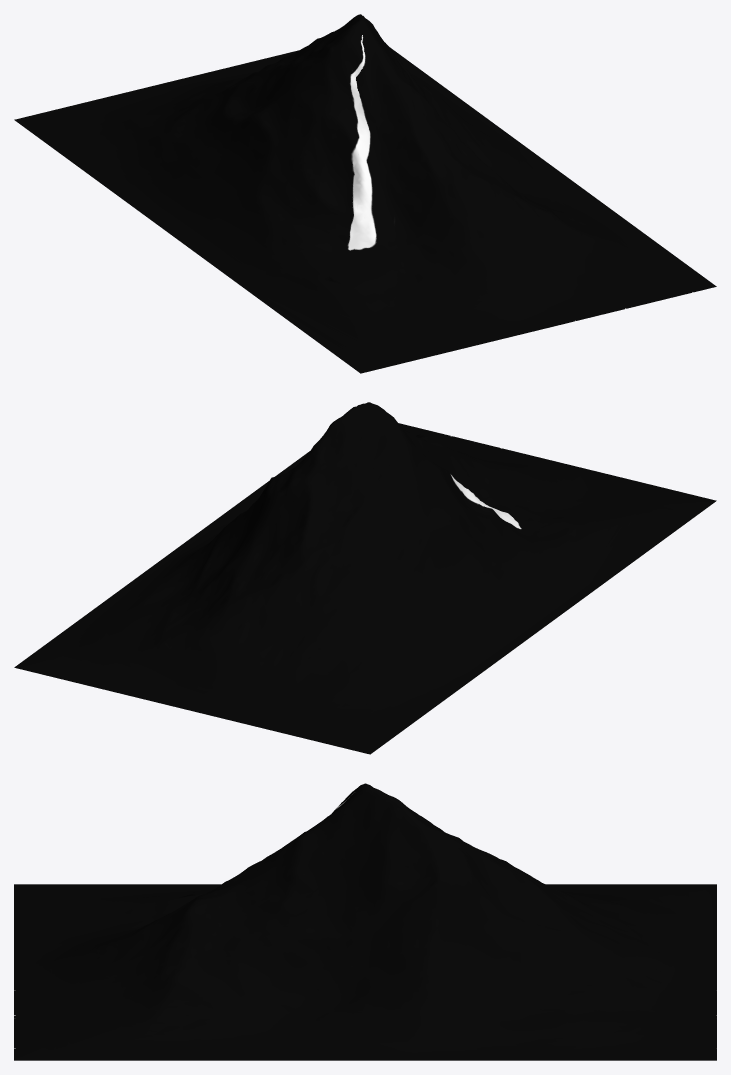
File: optimized_mountain_v2.glb
The picture shows the model from 3 angles, top to bottom: view 1: azimuth 30°, elevation 25°; view 2: azimuth 150°, elevation 25°; view 3: azimuth 270°, elevation 25°; orthographic projection.
Parts seen in each view (by area): view 1: Terrain_1; view 2: Terrain_1; view 3: Terrain_1.
Boxes of the visible parts, x1,y1,x2,y2 form: Terrain_1: (14,14,716,373); Terrain_1: (14,402,716,754); Terrain_1: (14,783,716,1060).
Size of the model in its own units: 13.36 by 6.56 by 22.52.
Materials: 1 (1 with a texture image).
